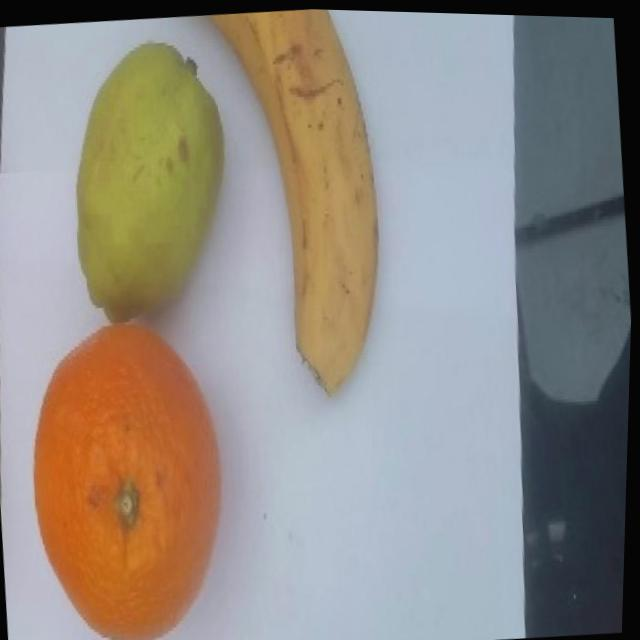Banana: (204, 5, 397, 406)
Orange: (15, 311, 247, 640)
